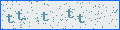t: (77, 14, 86, 24), (66, 9, 74, 18), (41, 12, 49, 21), (16, 11, 24, 20), (6, 14, 14, 23)
